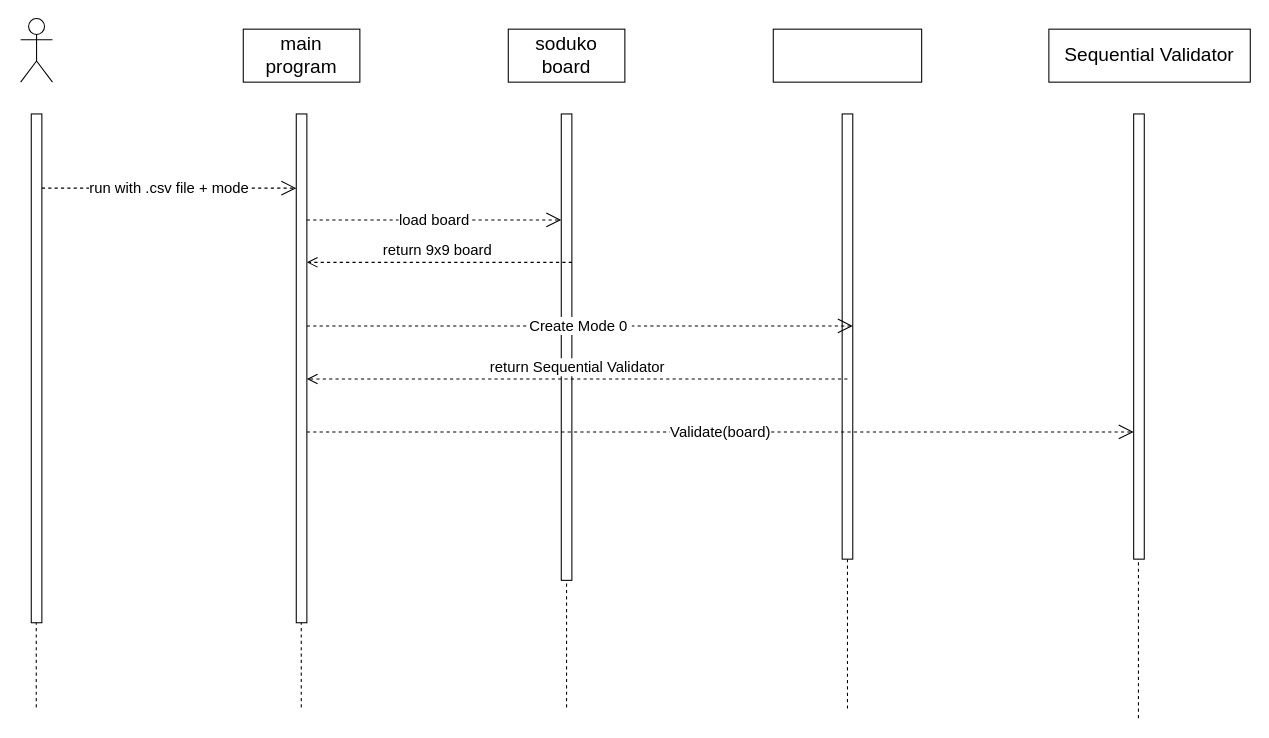
The diagram is 1269 pixels wide and 738 high, and some of its shapes have lost their labels. The centre of each missing label's shape, as x and y in pixels:
"user" belongs at [36,49].
"Validator Factory" belongs at [847,55].
